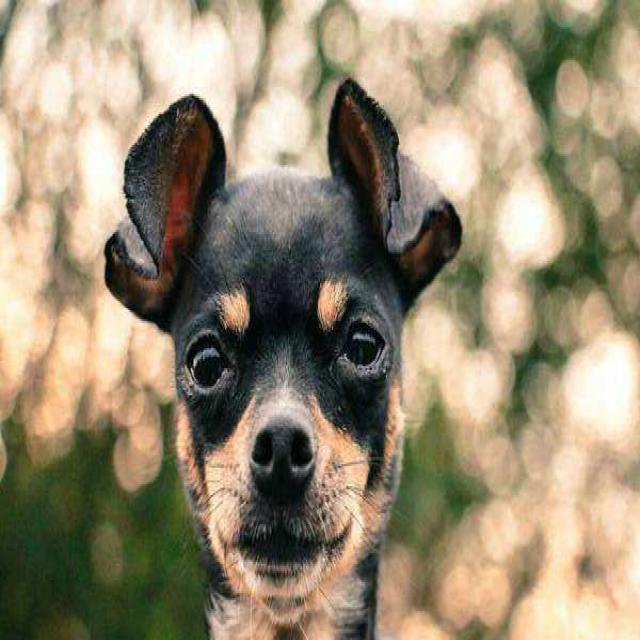eye: (183, 330, 233, 398), (338, 316, 388, 376)
